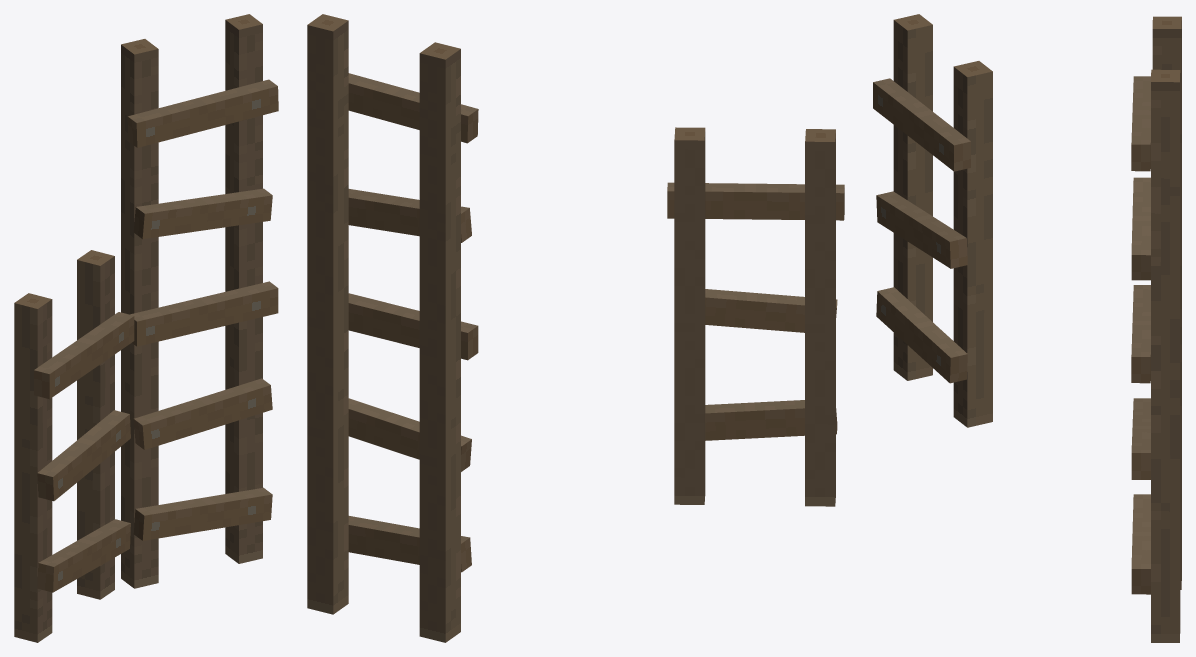
The model's file is Ladders.fbx.
3 renders of one model, left to right at view 1: azimuth 30°, elevation 25°; view 2: azimuth 150°, elevation 25°; view 3: azimuth 270°, elevation 25°, orthographic. The views are drawn at different scales.
Visible parts, largest first — view 1: LadderBig, LadderSmall; view 2: LadderBig, LadderSmall; view 3: LadderSmall, LadderBig.
Part boxes in pixels (x1,y1,x2,y2): LadderBig: (121, 14, 278, 588); LadderSmall: (14, 250, 134, 642); LadderBig: (307, 14, 478, 642); LadderSmall: (667, 127, 844, 506); LadderSmall: (873, 14, 992, 427); LadderBig: (1131, 16, 1181, 642).
Size of the model in its own units: 143 by 200 by 99.84.
1 material, 1 textured.
